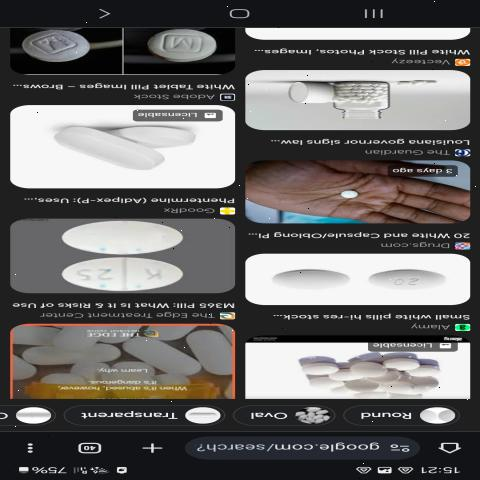Pill: (37, 124, 158, 174), (34, 262, 202, 295), (50, 228, 198, 257), (110, 335, 209, 374), (5, 31, 107, 66), (126, 28, 227, 62), (252, 265, 360, 296), (366, 268, 456, 298), (284, 356, 344, 377), (311, 184, 362, 204)
